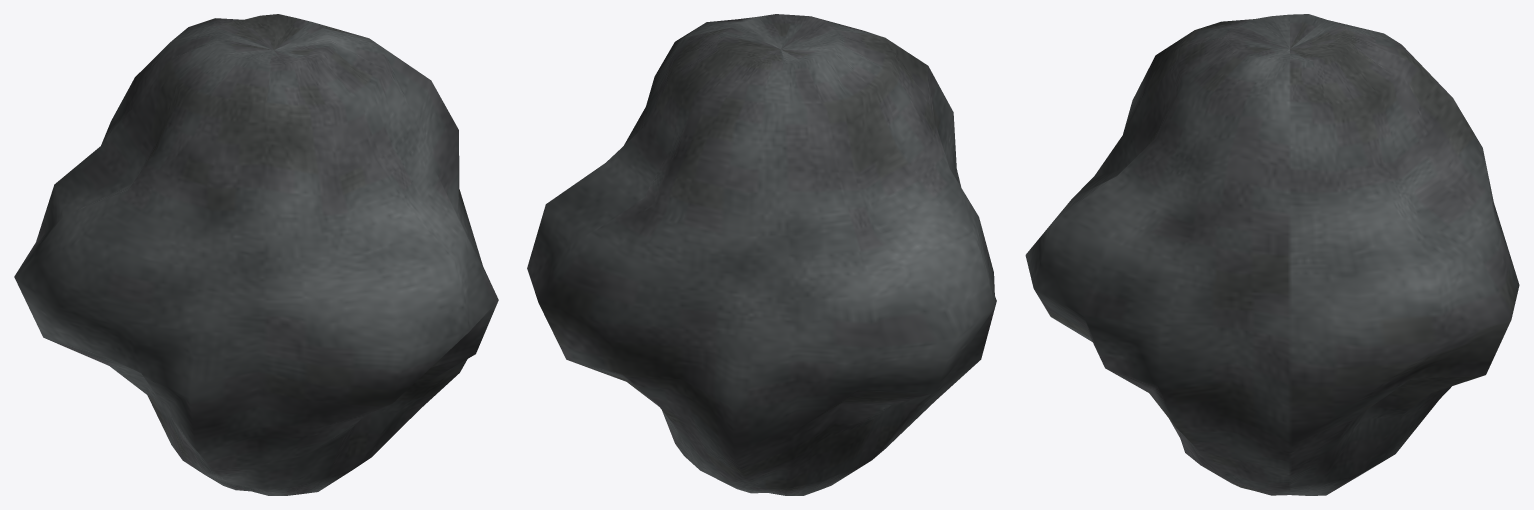
File: rock-b.glb
3 views of the same model, side by side, from view 1: azimuth 30°, elevation 25°; view 2: azimuth 150°, elevation 25°; view 3: azimuth 270°, elevation 25° (orthographic).
Visible parts, largest first — view 1: rock-b; view 2: rock-b; view 3: rock-b.
Boxes of the visible parts, <box> form: rock-b: <box>14,14,498,495</box>; rock-b: <box>527,14,996,495</box>; rock-b: <box>1025,14,1519,495</box>.
Size of the model in its own units: 0.7737 by 0.797 by 0.8136.
1 material, 1 textured.
